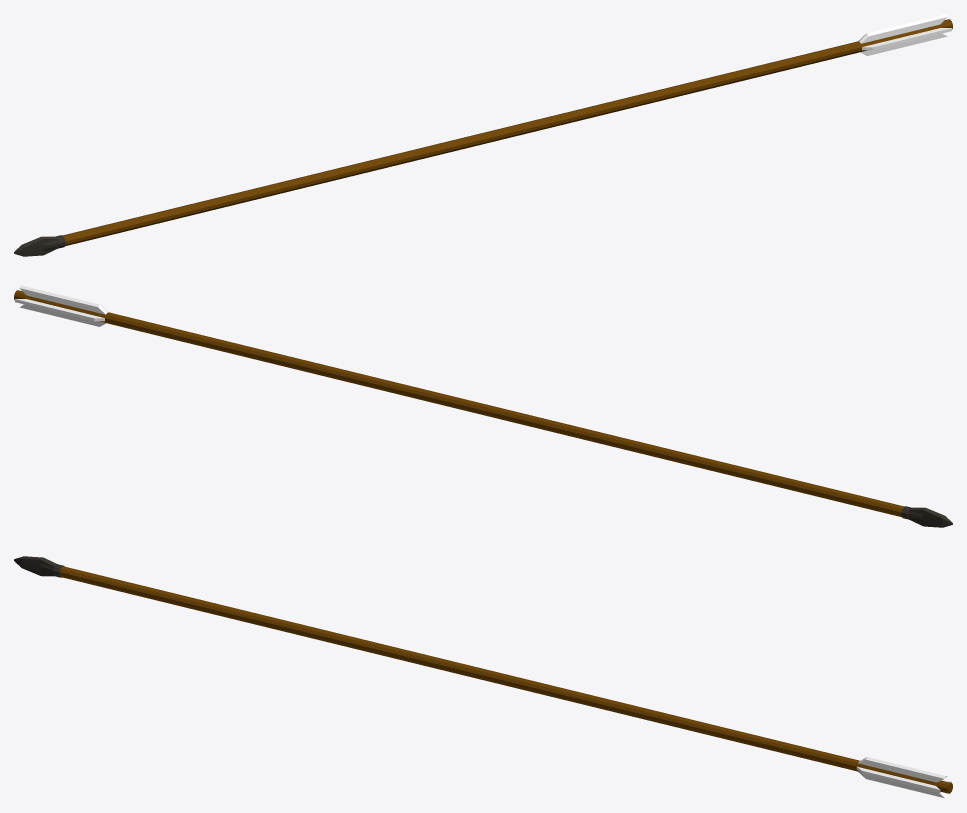
Rendered from Arrow.fbx.
The picture shows the model from 3 angles, top to bottom: view 1: azimuth 30°, elevation 25°; view 2: azimuth 150°, elevation 25°; view 3: azimuth 330°, elevation 25°; orthographic projection.
Parts seen in each view (by area): view 1: Arrow; view 2: Arrow; view 3: Arrow.
Part boxes in pixels (box(x1,y1,x2,y2)): Arrow: box(14, 14, 952, 256); Arrow: box(14, 285, 952, 527); Arrow: box(14, 556, 952, 798).
Bounding box in the file's own units: 193 × 4.44 × 4.
